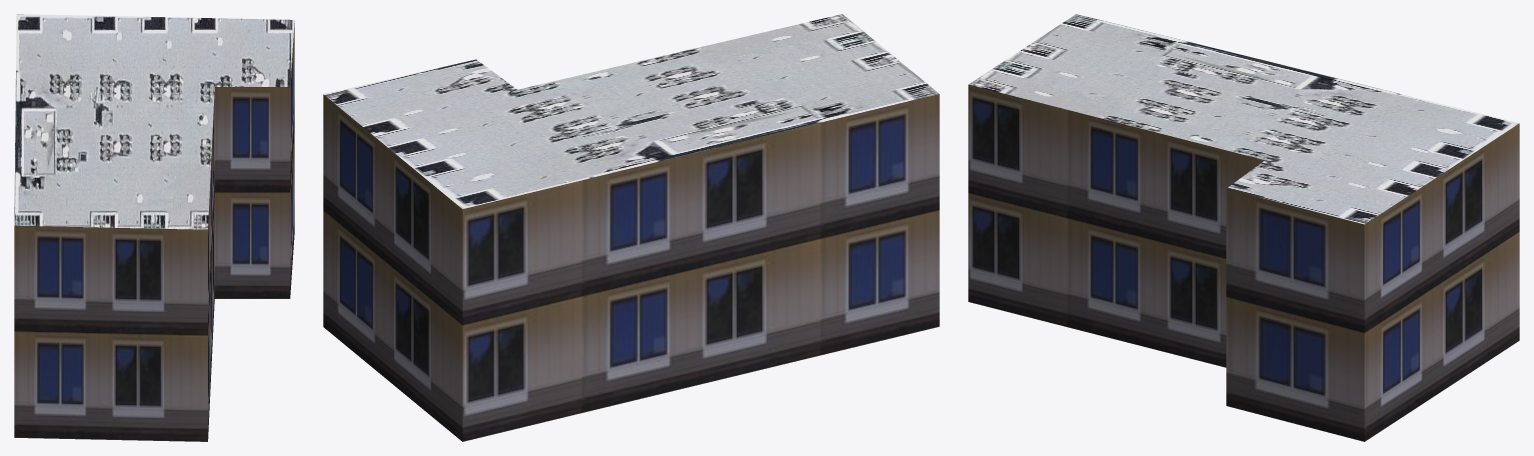
The model's file is ResTex__2214.fbx.
3 renders of one model, left to right at view 1: azimuth 30°, elevation 25°; view 2: azimuth 150°, elevation 25°; view 3: azimuth 270°, elevation 25°, orthographic. The views are drawn at different scales.
Parts seen in each view (by area): view 1: CityEngineMaterial_5_m, CityEngineMaterial_4_m; view 2: CityEngineMaterial_5_m, CityEngineMaterial_4_m; view 3: CityEngineMaterial_5_m, CityEngineMaterial_4_m.
Part boxes in pixels (left/top/right/bottom): CityEngineMaterial_5_m: left=14, top=23, right=294, bottom=441; CityEngineMaterial_4_m: left=14, top=14, right=294, bottom=229; CityEngineMaterial_5_m: left=323, top=94, right=939, bottom=441; CityEngineMaterial_4_m: left=324, top=14, right=938, bottom=209; CityEngineMaterial_5_m: left=968, top=84, right=1519, bottom=441; CityEngineMaterial_4_m: left=968, top=14, right=1518, bottom=224.
Bounding box in the file's own units: 12.46 × 6 × 13.79.
Materials: 2 (2 with a texture image).
